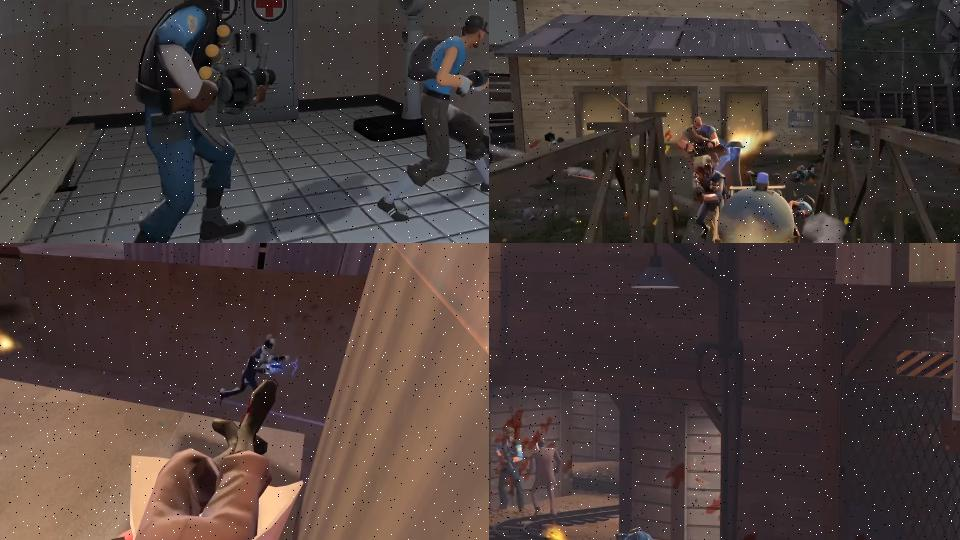Enemy: (116, 0, 277, 243), (32, 405, 287, 540), (377, 14, 489, 220), (212, 331, 290, 405), (493, 425, 527, 519), (526, 438, 564, 520), (692, 164, 726, 238), (678, 117, 725, 170), (604, 523, 671, 540), (789, 195, 815, 218), (790, 164, 819, 183), (489, 127, 495, 163)
